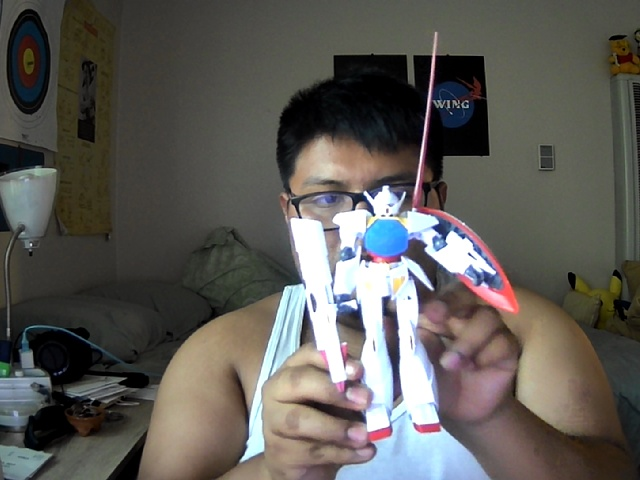Turn-A: (290, 183, 521, 440)
